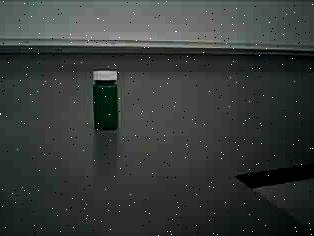Bottle C: (84, 67, 126, 139)
